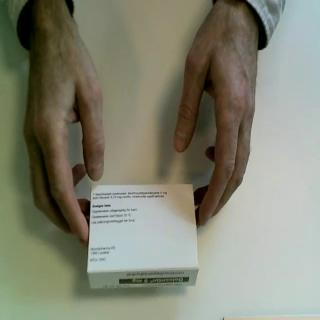dolcontin5mg: (86, 182, 200, 291)
